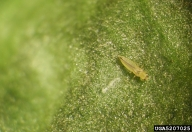Thrips: (117, 52, 156, 86)
